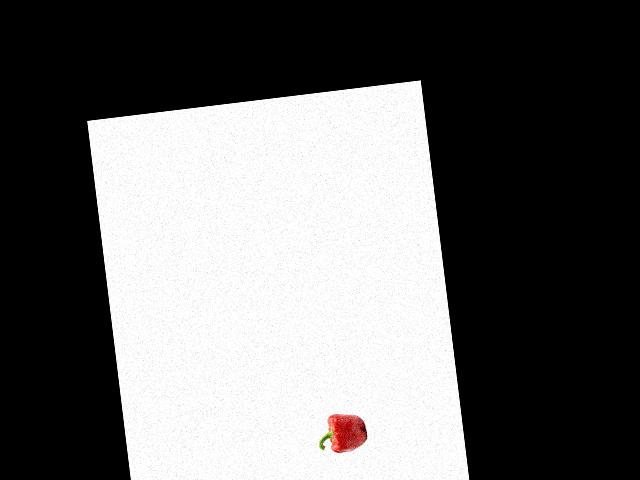bell_pepper: (314, 407, 371, 458)
